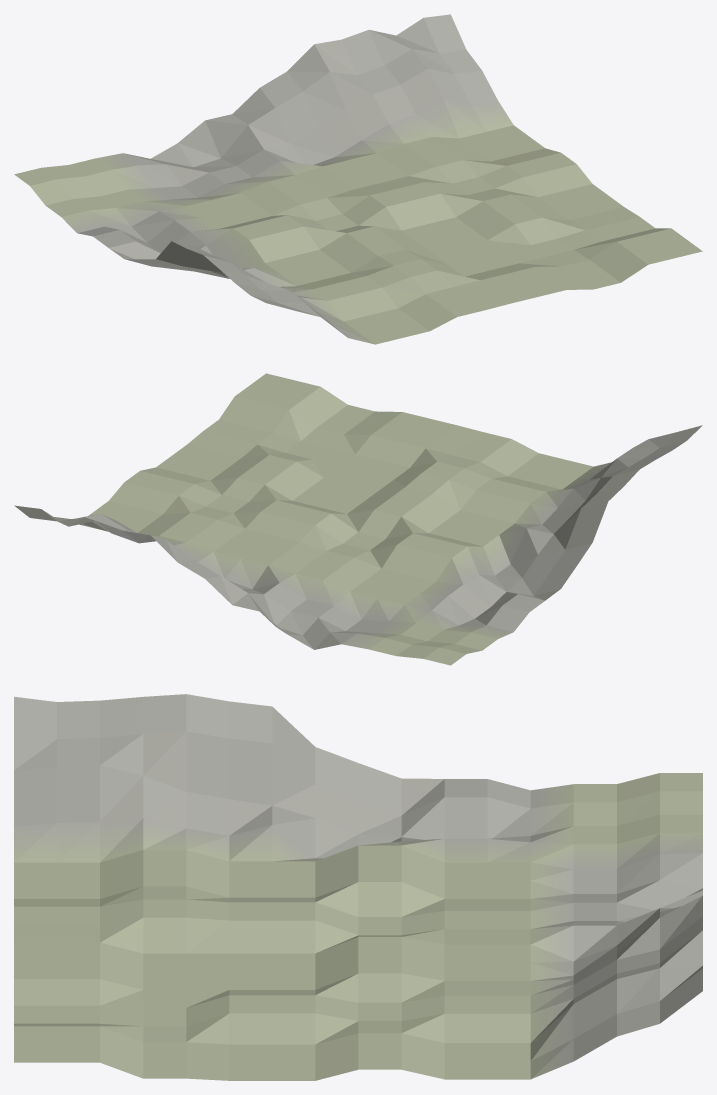
The picture shows the model from 3 angles, top to bottom: view 1: azimuth 30°, elevation 25°; view 2: azimuth 150°, elevation 25°; view 3: azimuth 270°, elevation 25°; orthographic projection. The views are drawn at different scales.
Bounding box in the file's own units: 32 × 5.76 × 32.
